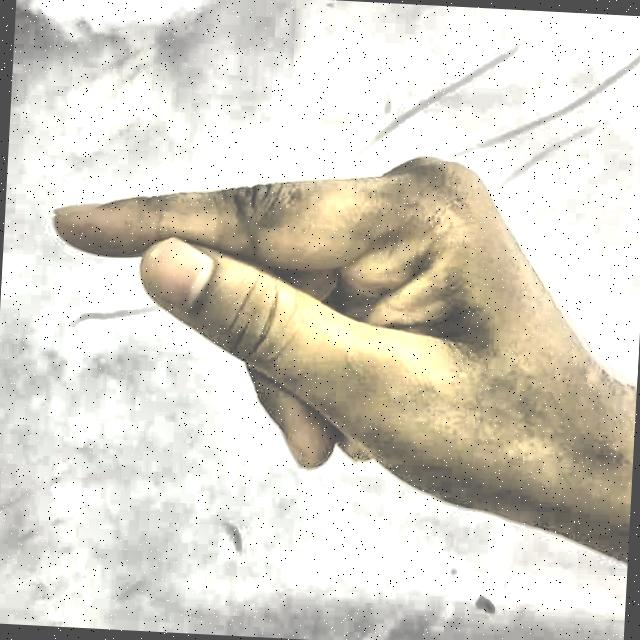Tha: (22, 116, 638, 576)
